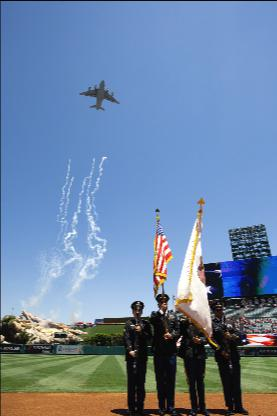C2: (78, 78, 118, 110)
